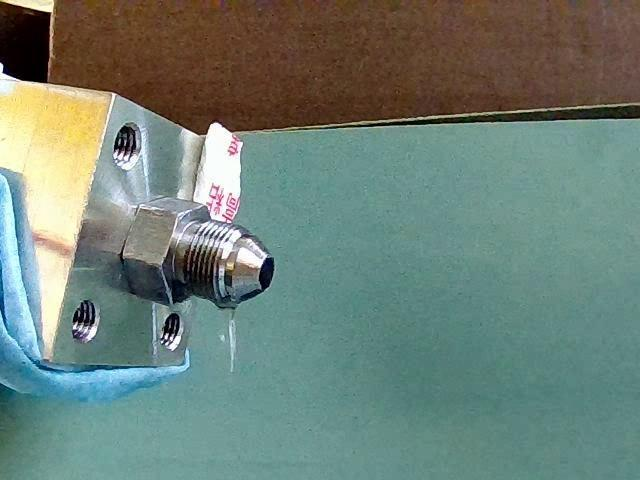water drop: (219, 310, 239, 377)
